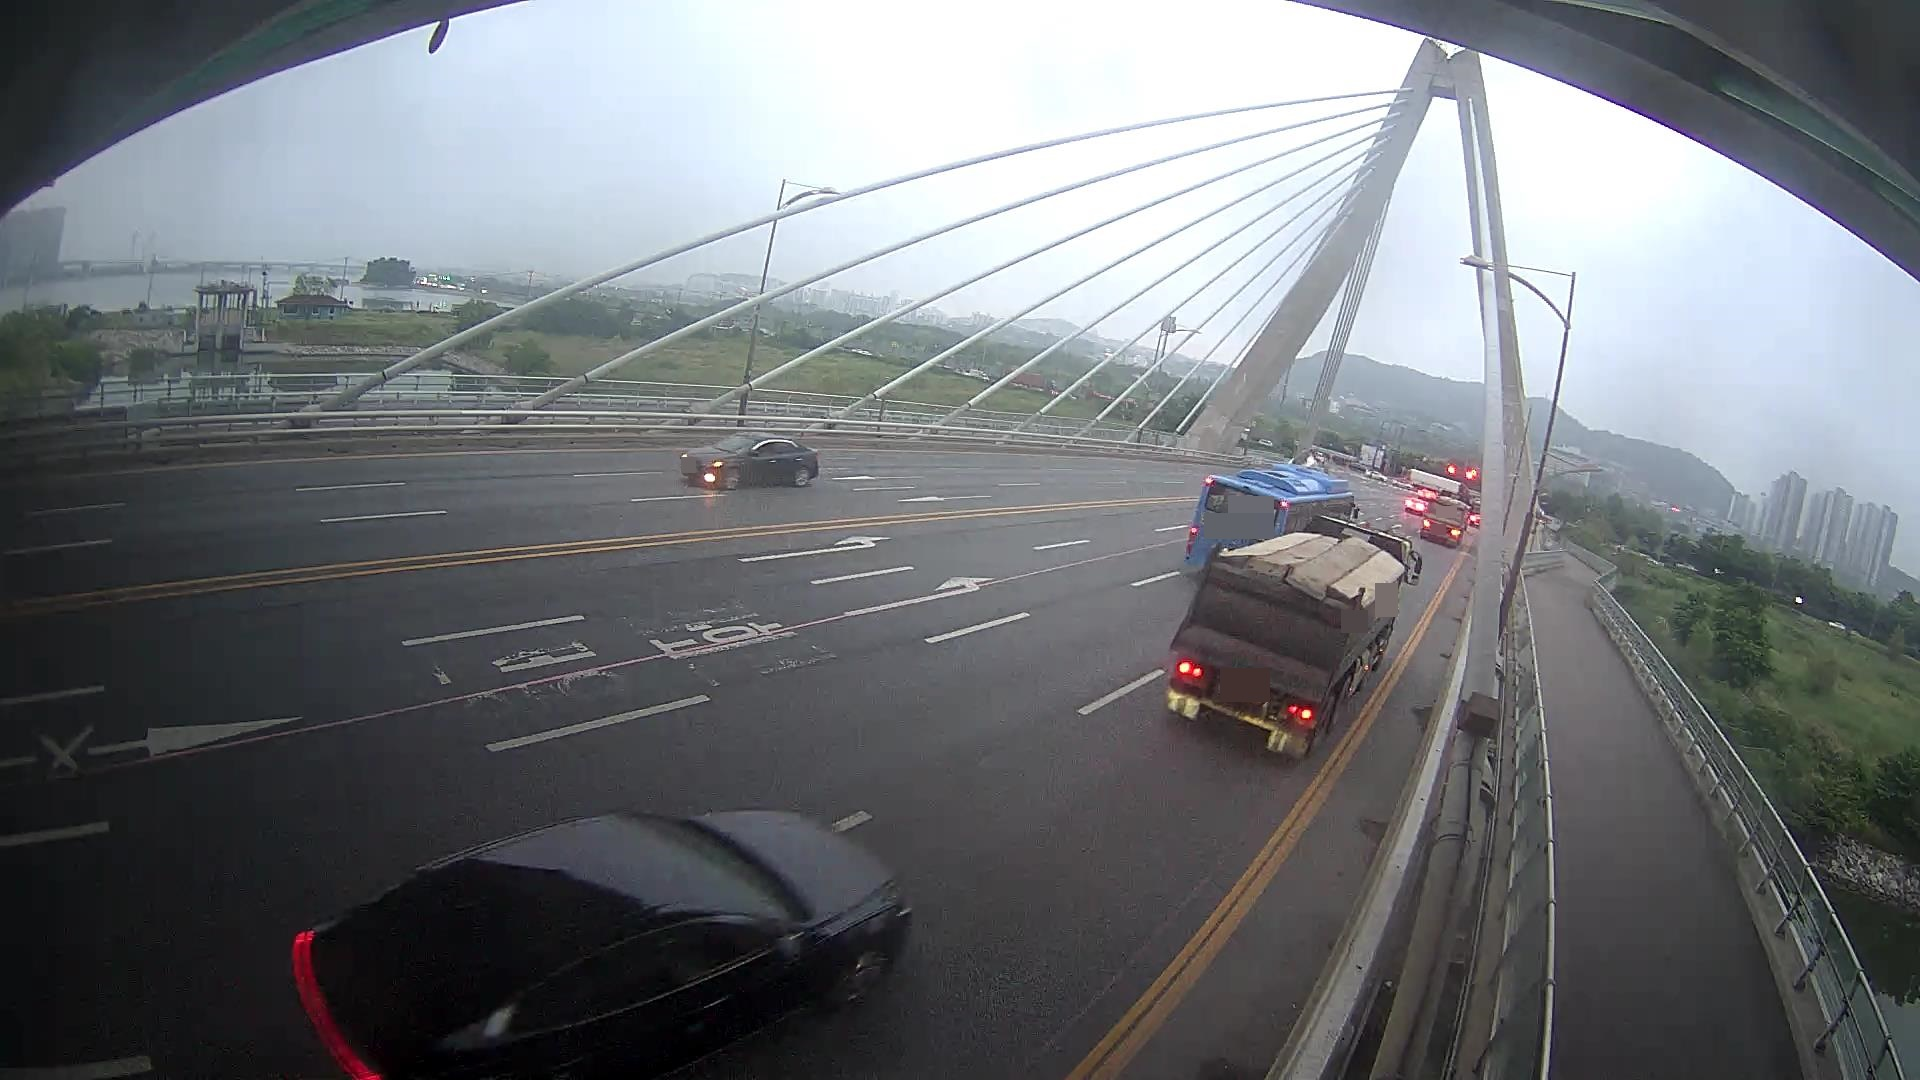정상차량: (1168, 516, 1423, 757)
